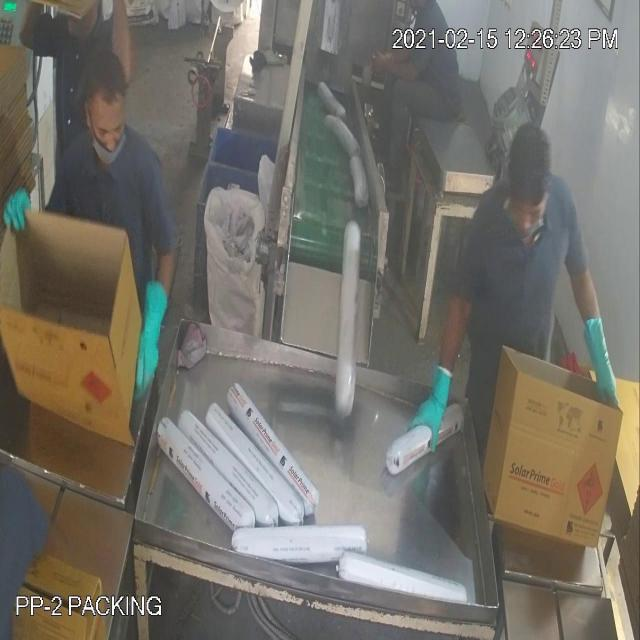Gloves: (36, 52, 600, 416)
